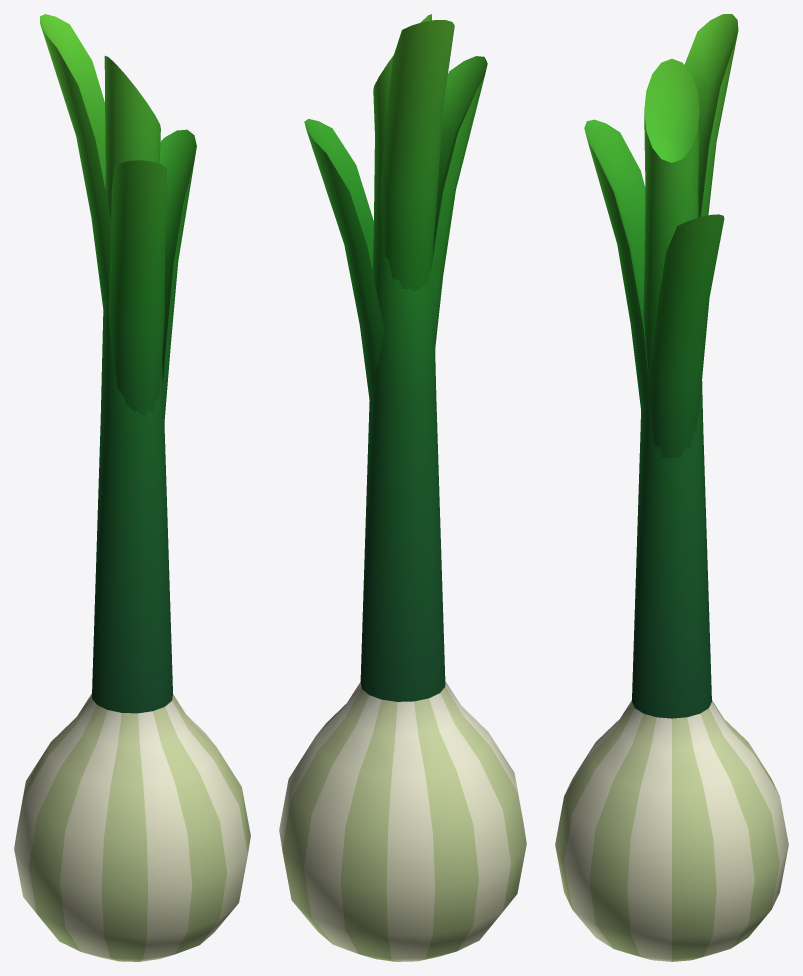
Rendered from Spring_Onion_01.glb.
3 views of the same model, side by side, from view 1: azimuth 30°, elevation 25°; view 2: azimuth 150°, elevation 25°; view 3: azimuth 270°, elevation 25° (orthographic). The views are drawn at different scales.
Visible parts, largest first — view 1: Spring_Onion_01; view 2: Spring_Onion_01; view 3: Spring_Onion_01.
Part boxes in pixels (box(x1,y1,x2,y2)): Spring_Onion_01: box(14, 14, 250, 961); Spring_Onion_01: box(279, 14, 526, 961); Spring_Onion_01: box(555, 14, 788, 961).
Size of the model in its own units: 0.1712 by 0.7333 by 0.1712.
Materials: 1 (1 with a texture image).
